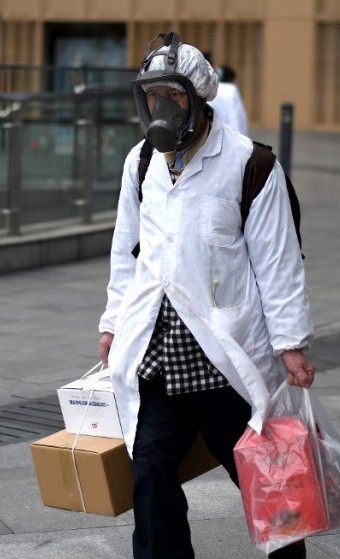with_mask: (133, 50, 219, 151)
